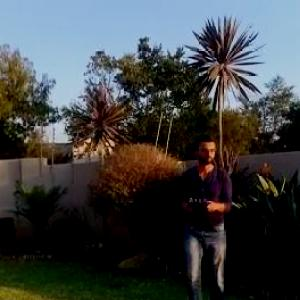follow: (175, 128, 239, 299)
